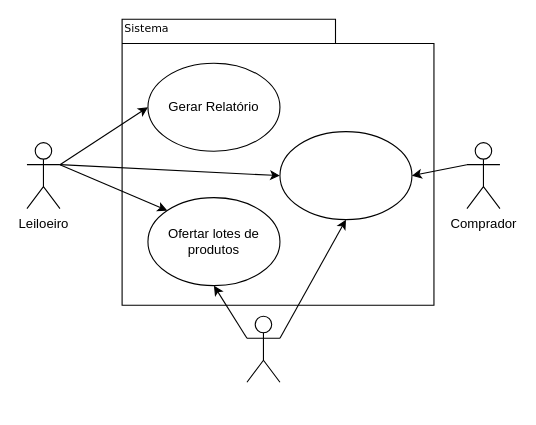
Some shapes in this 536 by 425 pixel diagram are drawn without their labels. Each missing label, with the centre of its shape:
Realizar Leilão: (x=345, y=175)
Vendedor: (x=263, y=348)
